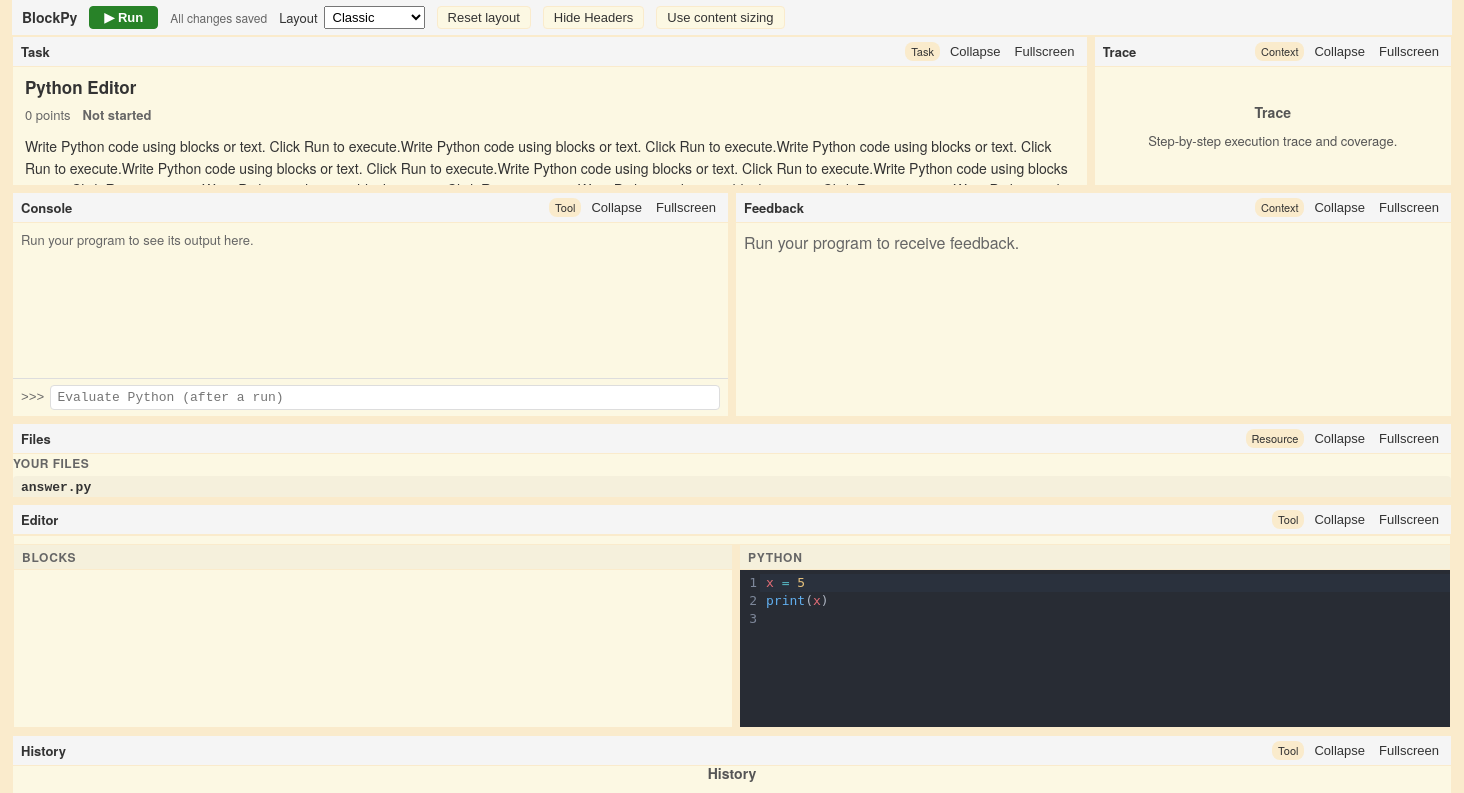
Test: WorkspaceShell › collapses and expands a panel
Step 1. Click the button with aria-label "Collapse Console" → x=617, y=208, box 587,197 -> 646,218
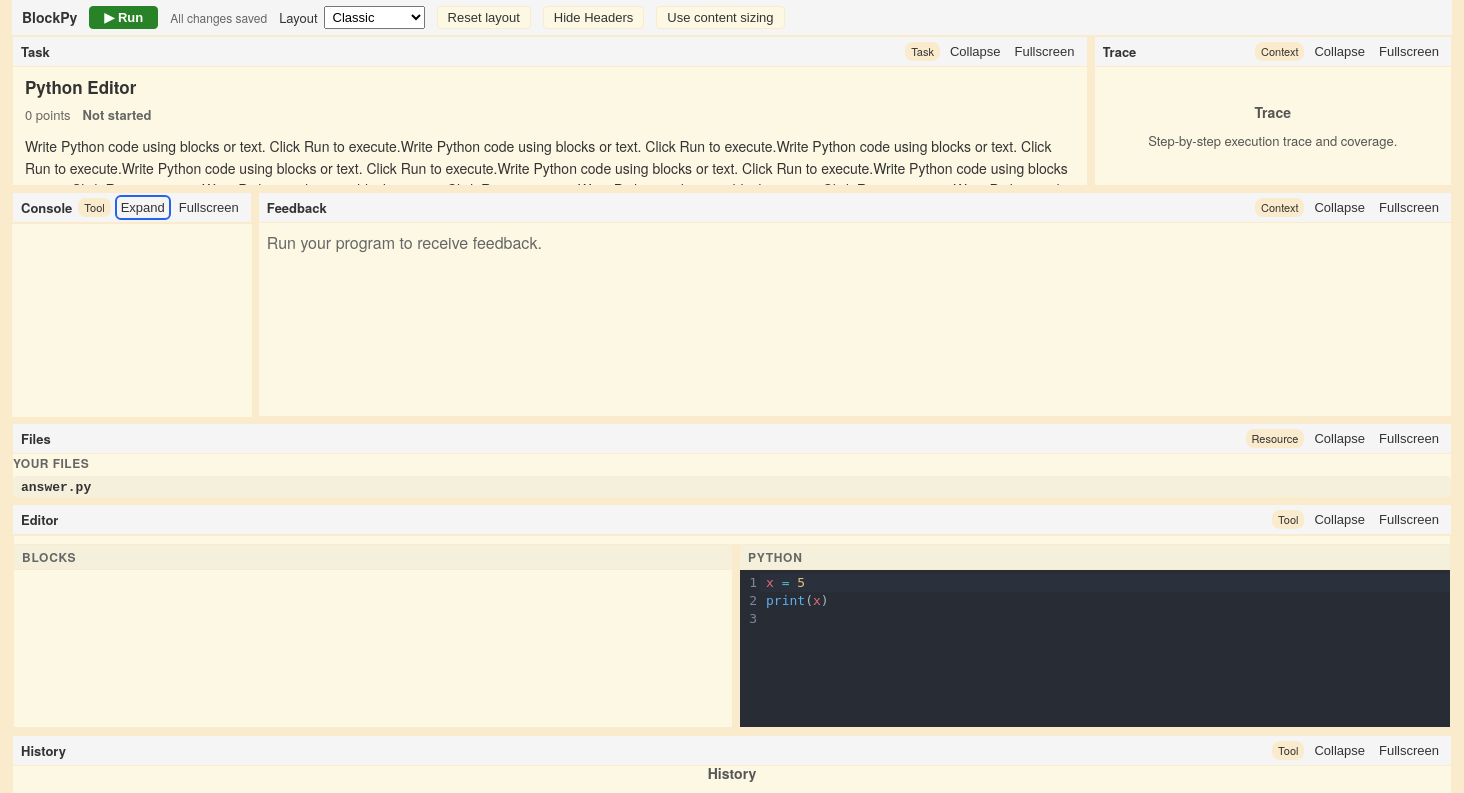
Now the button with aria-label "Expand Console" is collapsed
Step 2. Click the button with aria-label "Expand Console" → x=143, y=208, box 117,197 -> 169,218
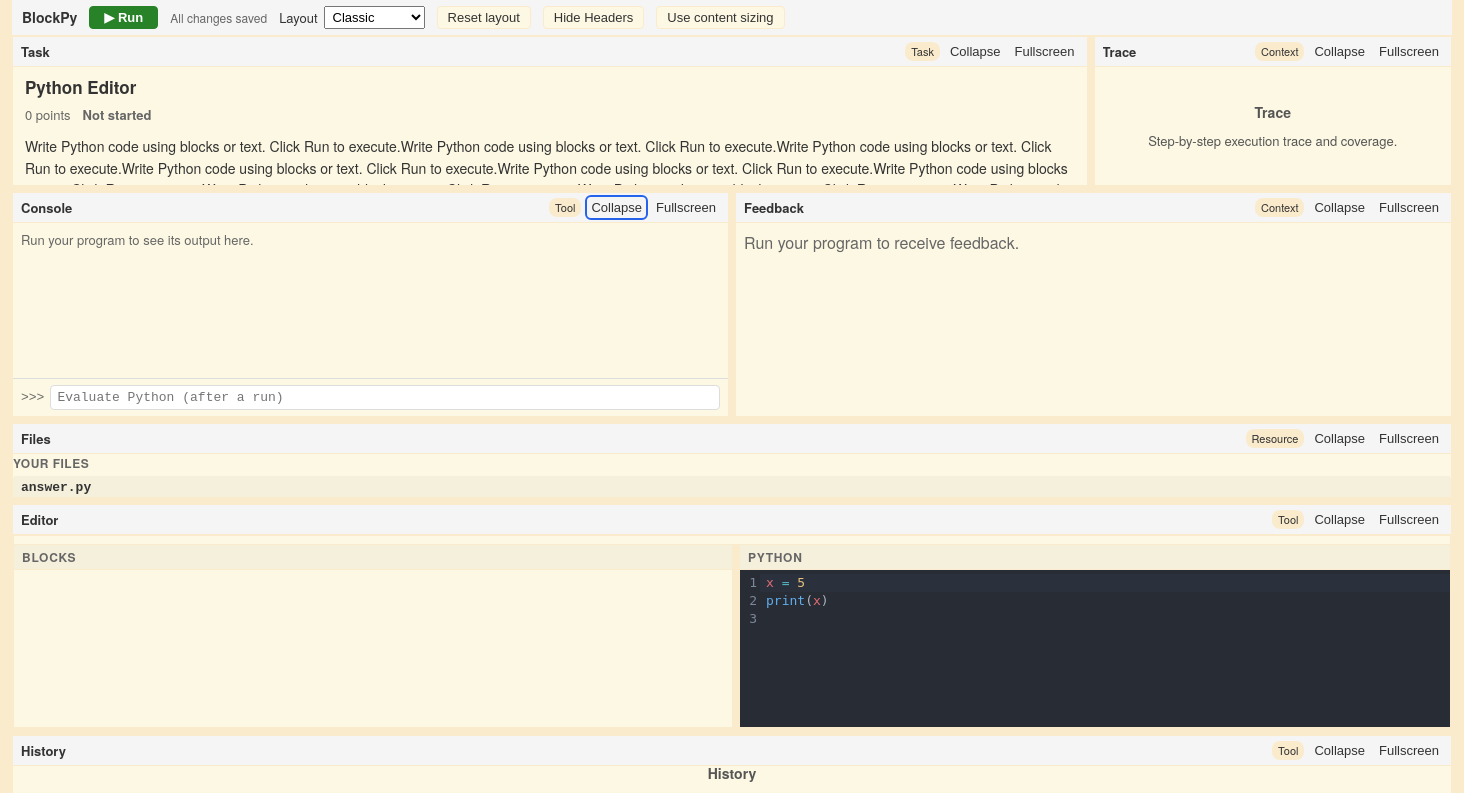
Now the button with aria-label "Collapse Console" is shown, box 587,197 -> 646,218
